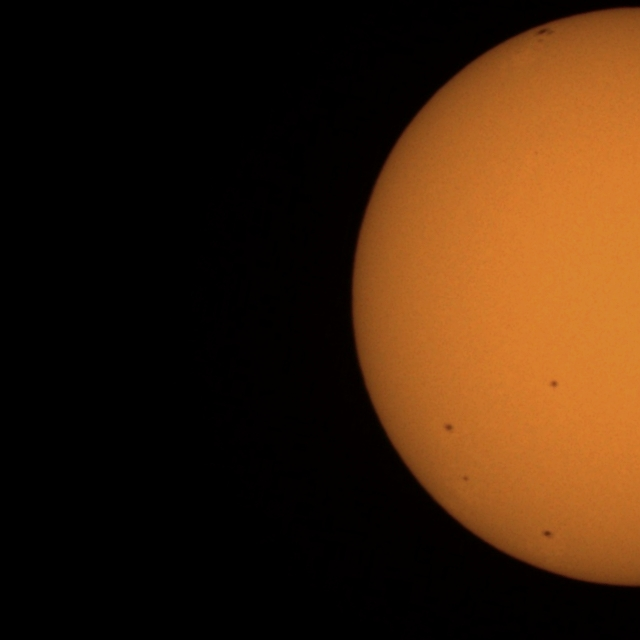sunspot: (522, 22, 556, 45), (442, 422, 455, 434), (548, 379, 560, 390), (542, 529, 554, 539), (460, 474, 470, 483)
